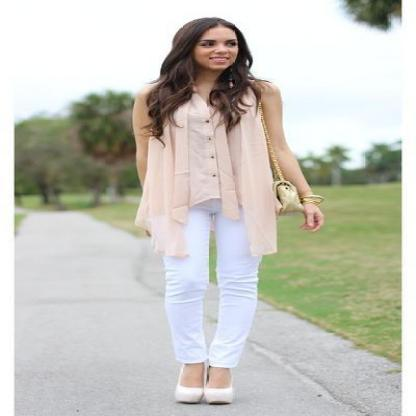bag: (274, 174, 322, 218)
pants: (151, 198, 261, 367)
shirt: (137, 96, 286, 256)
shoe: (175, 382, 232, 401)
